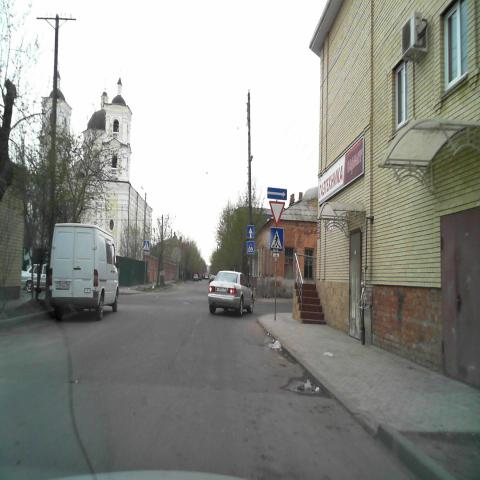5_7_1: (266, 186, 287, 200)
